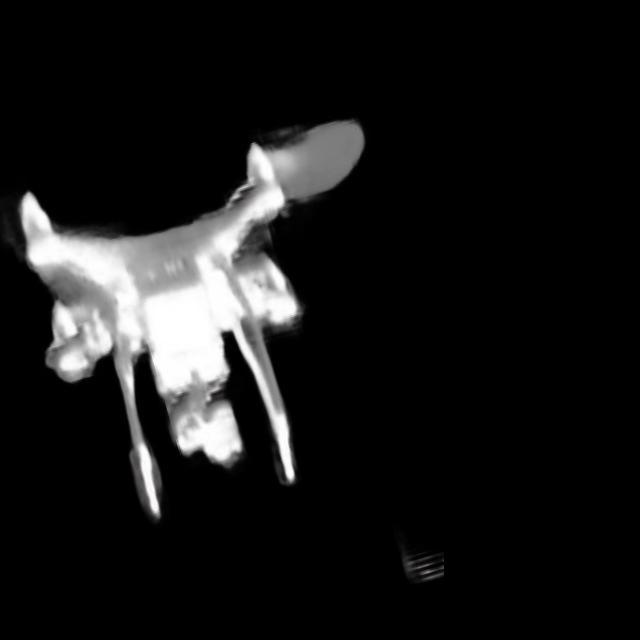drone: (0, 100, 444, 640)
